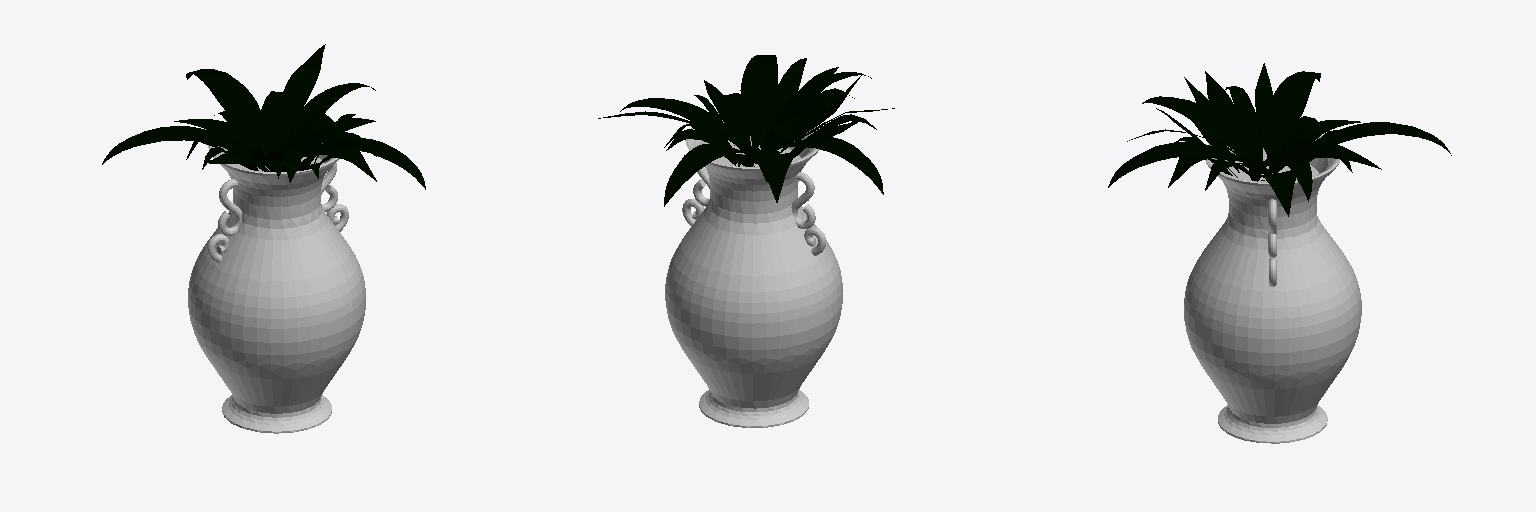
File: potted_plant_blender_2.8.obj
3 views of the same model, side by side, from view 1: azimuth 30°, elevation 25°; view 2: azimuth 150°, elevation 25°; view 3: azimuth 270°, elevation 25° (orthographic).
Parts seen in each view (by area): view 1: pot, leaves; view 2: pot, leaves; view 3: pot, leaves.
Boxes of the visible parts, box(x1,y1,x2,y2) form: pot: box(188, 143, 365, 433); leaves: box(102, 44, 425, 189); pot: box(665, 120, 842, 427); leaves: box(598, 55, 894, 206); pot: box(1184, 135, 1361, 443); leaves: box(1108, 63, 1451, 216).
Size of the model in its own units: 28.98 by 32.36 by 31.99.